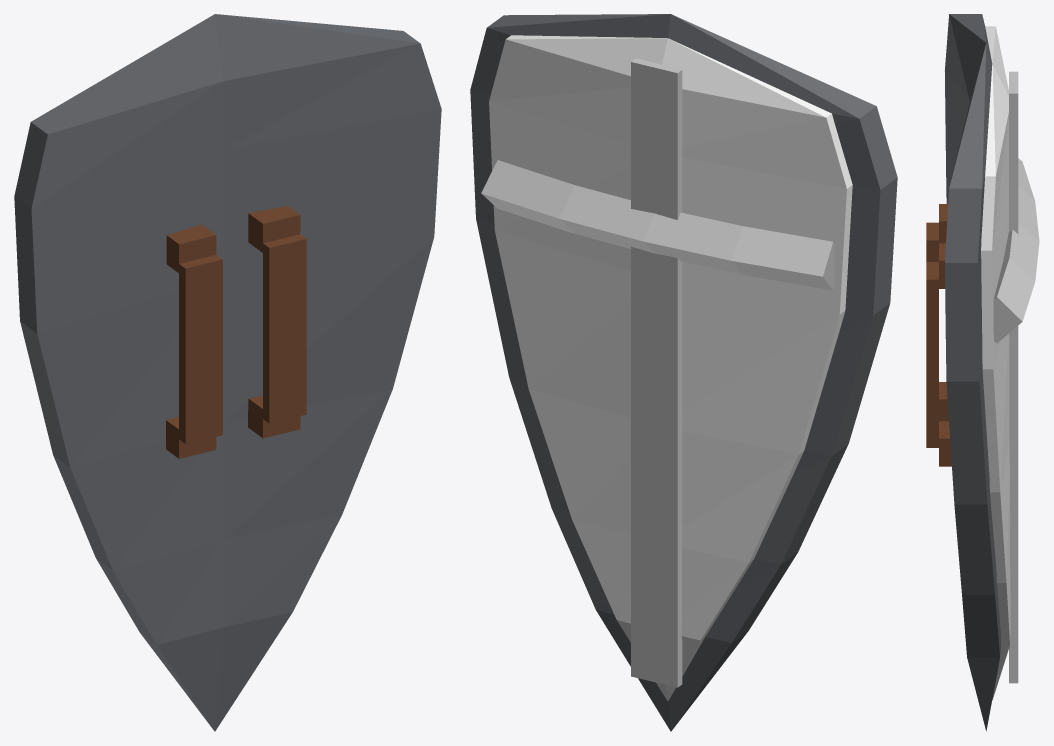
File: vfem2_shield_heater.obj
The picture shows the model from 3 angles, left to right: view 1: azimuth 30°, elevation 25°; view 2: azimuth 150°, elevation 25°; view 3: azimuth 270°, elevation 25°; orthographic projection. The views are drawn at different scales.
Visible parts, largest first — view 1: vfem2_shield_heater; view 2: vfem2_shield_heater; view 3: vfem2_shield_heater.
Boxes of the visible parts, x1,y1,x2,y2 form: vfem2_shield_heater: [14, 14, 441, 731]; vfem2_shield_heater: [470, 14, 897, 731]; vfem2_shield_heater: [926, 14, 1039, 731].
Bounding box in the file's own units: 0.44 × 0.736 × 0.1095.
